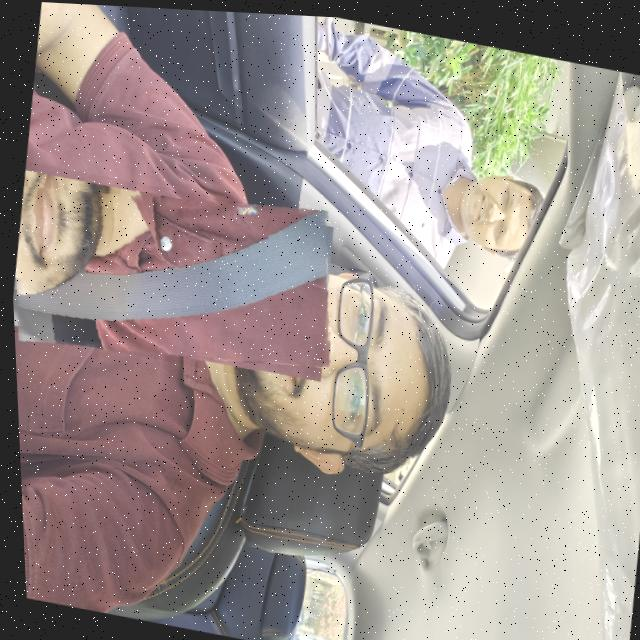seatbelt: (6, 160, 345, 389)
